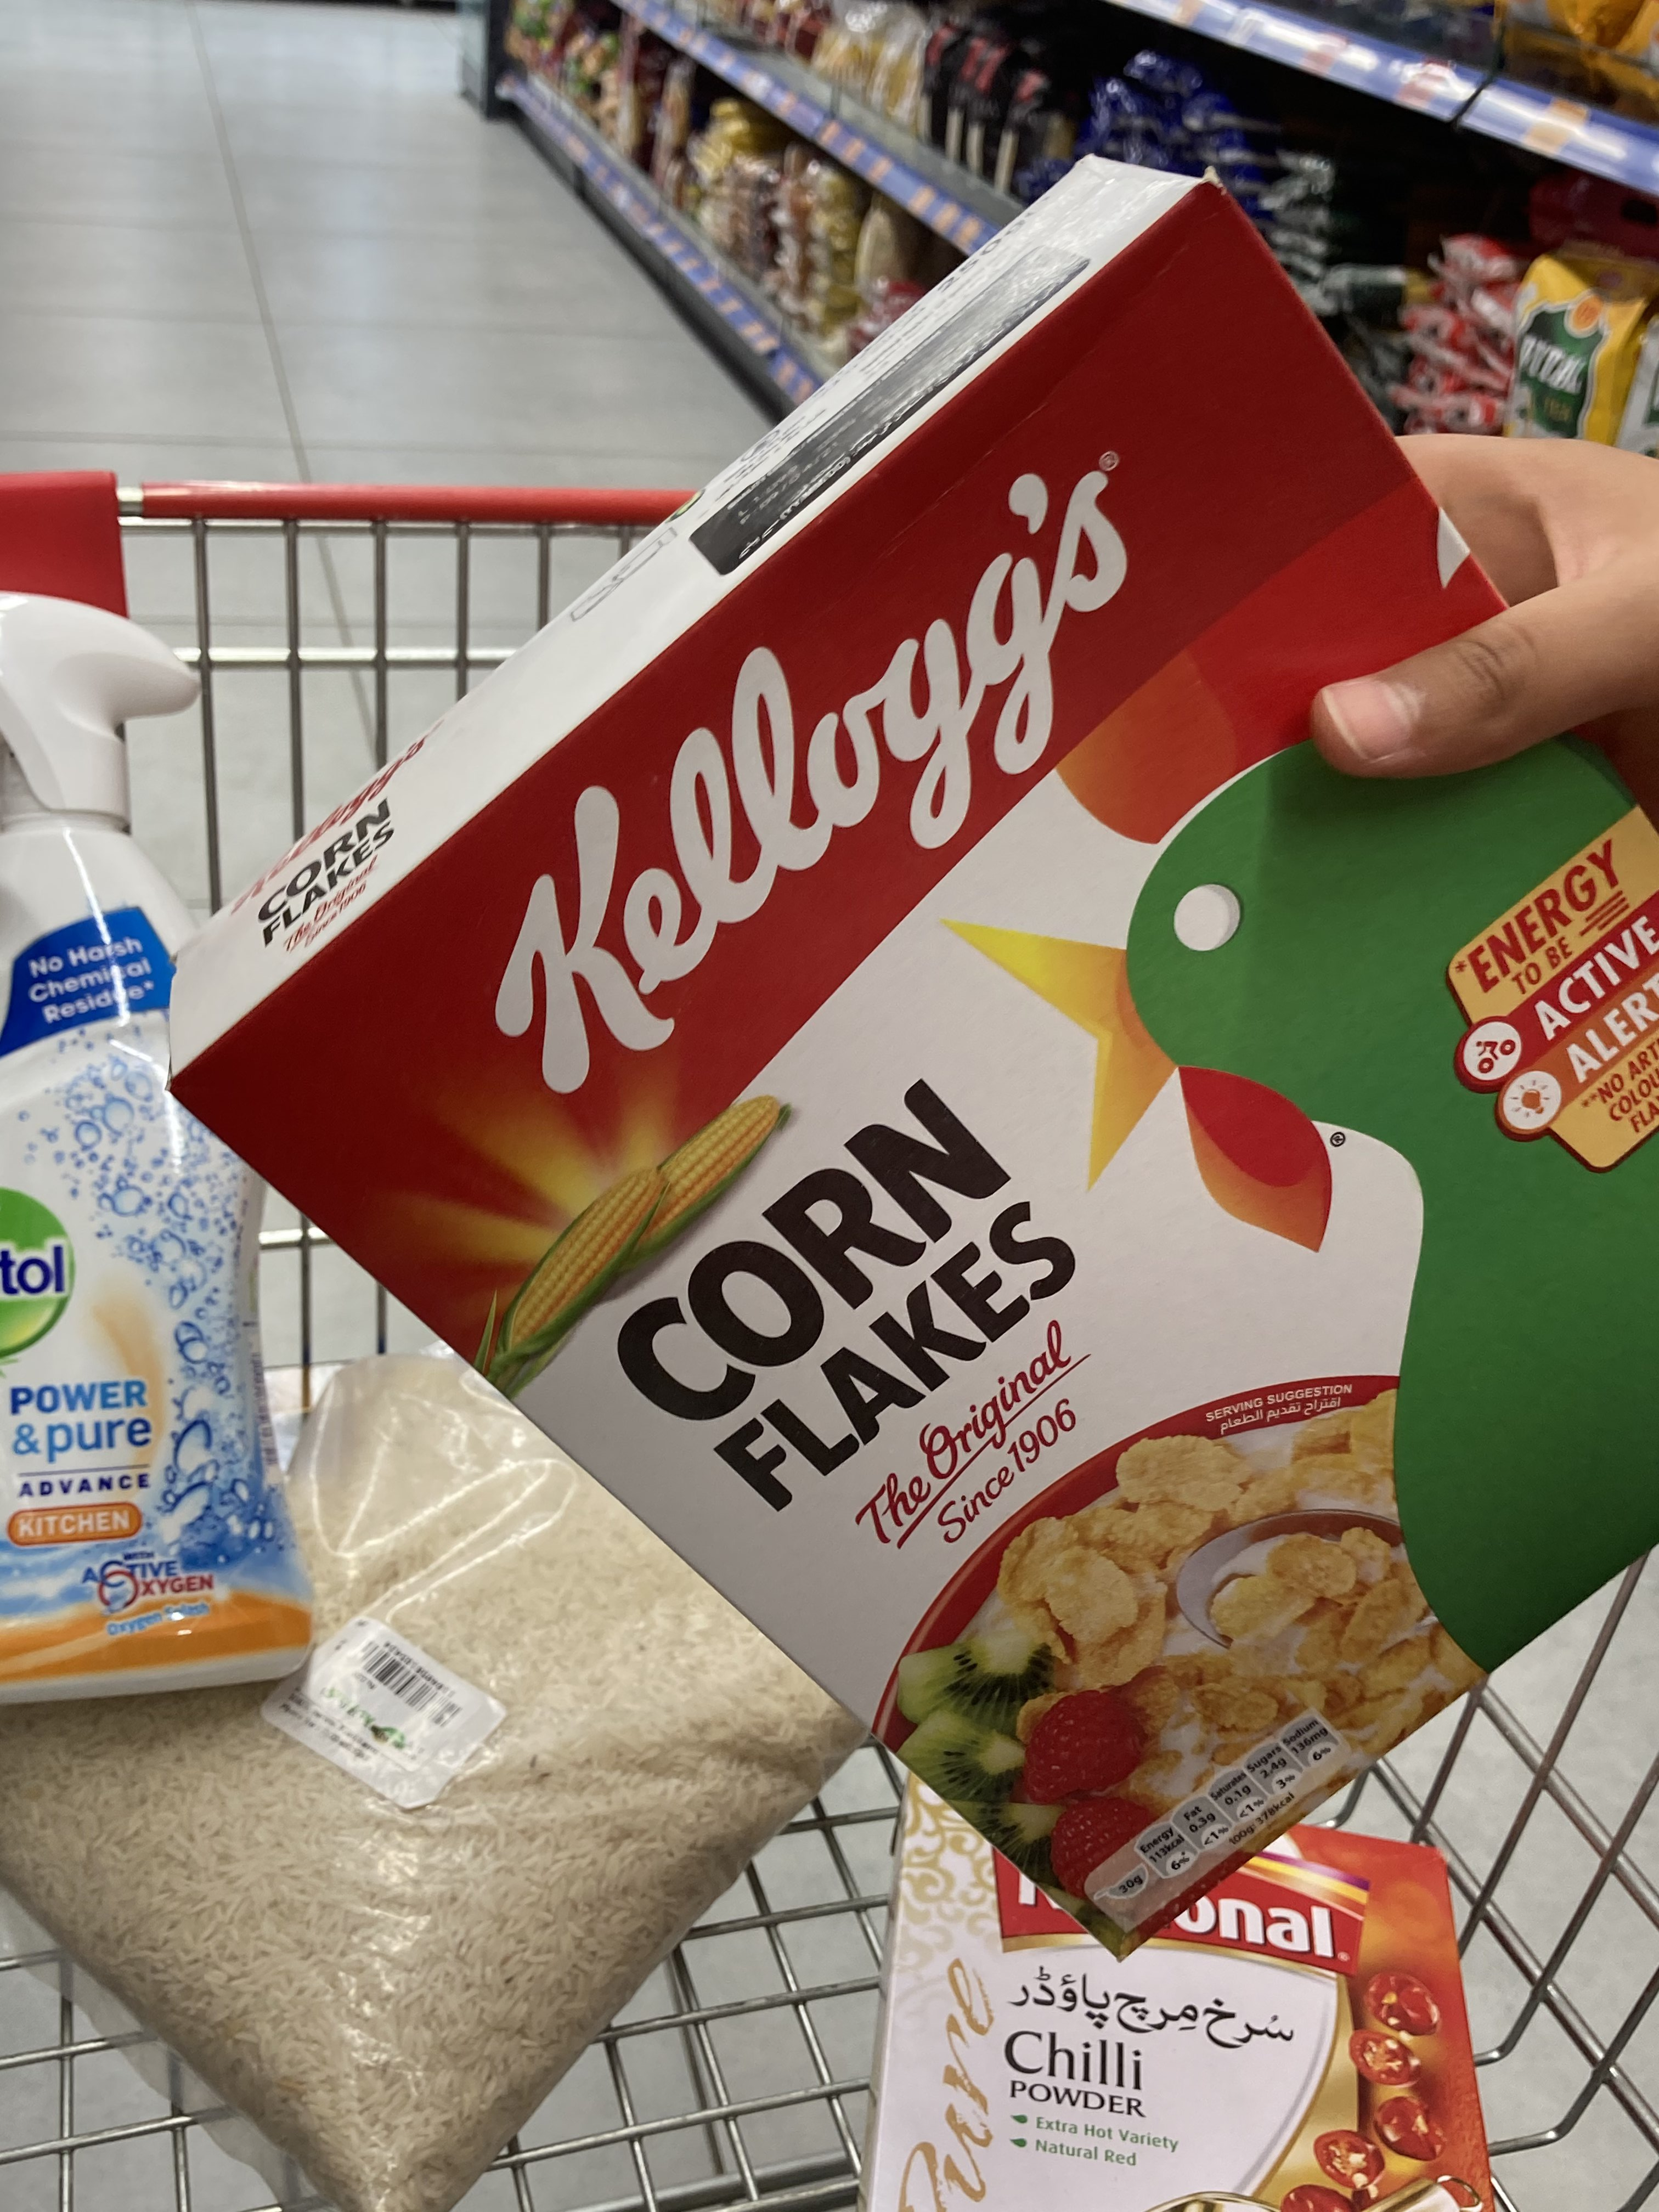Kellogg's Corn Flakes: (166, 143, 1659, 1956)
